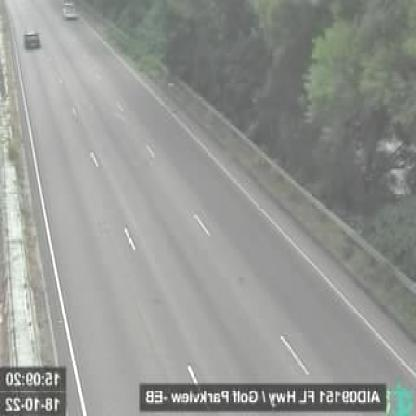Car: (22, 28, 40, 50), (60, 0, 78, 21)
